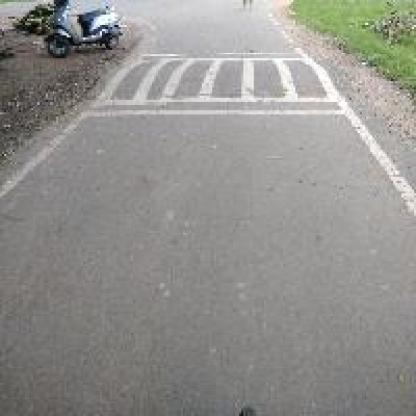Speed Bump: (94, 54, 345, 110)
